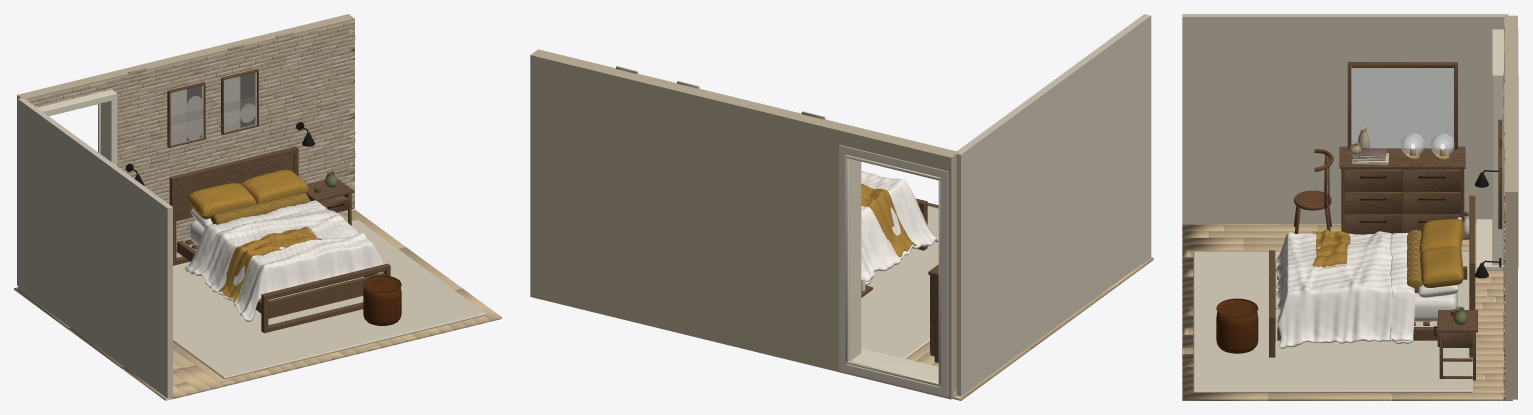
Rendered from bedroom.glb.
3 renders of one model, left to right at view 1: azimuth 30°, elevation 25°; view 2: azimuth 150°, elevation 25°; view 3: azimuth 270°, elevation 25°, orthographic. The views are drawn at different scales.
Visible parts, largest first — view 1: Walnut bedroom | interactive cutaway; view 2: Walnut bedroom | interactive cutaway; view 3: Walnut bedroom | interactive cutaway.
Part boxes in pixels (x1=…): Walnut bedroom | interactive cutaway: x1=14, y1=14, x2=501, y2=400; Walnut bedroom | interactive cutaway: x1=530, y1=14, x2=1153, y2=400; Walnut bedroom | interactive cutaway: x1=1182, y1=14, x2=1518, y2=400.
Size of the model in its own units: 5 by 2.75 by 3.97.
Materials: 40 (5 with a texture image).
